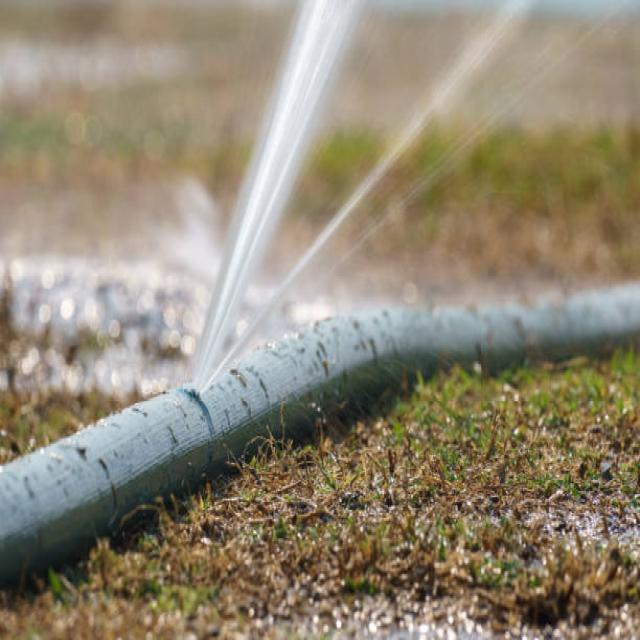pipe burst: (173, 0, 606, 408)
